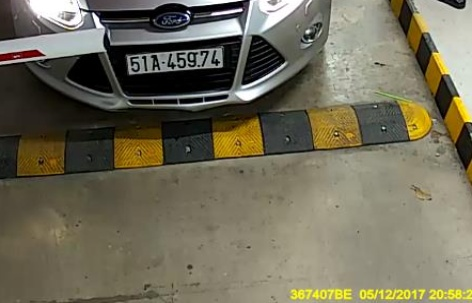plate: (120, 42, 233, 78)
